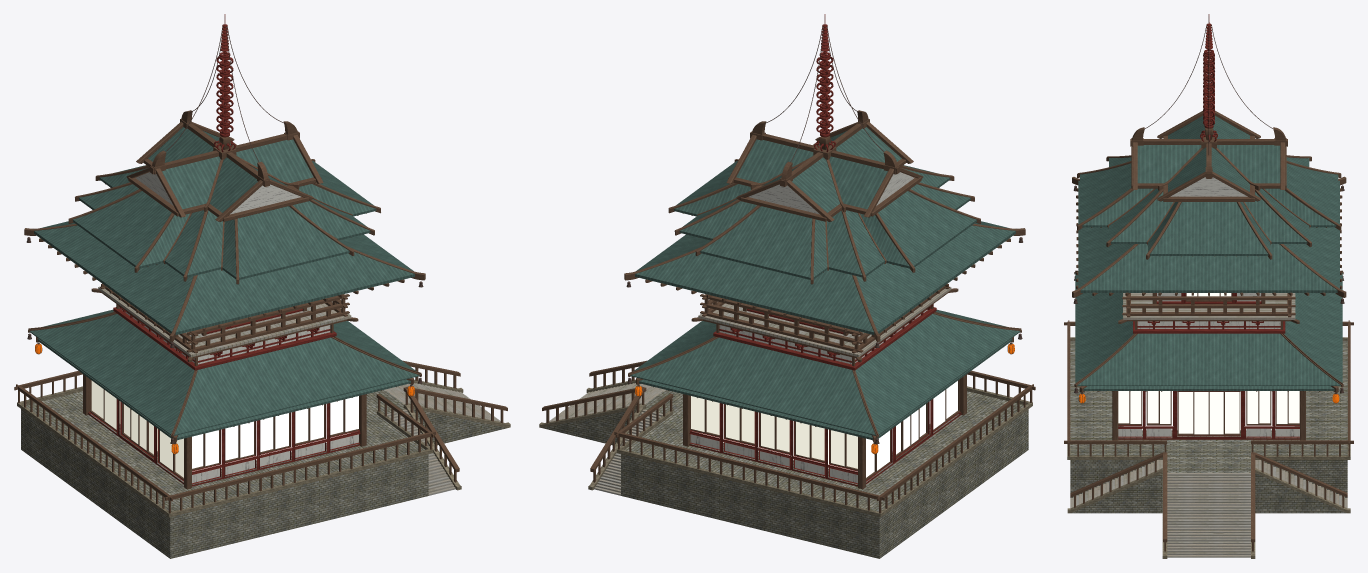
File: jp_castle.glb
3 views of the same model, side by side, from view 1: azimuth 30°, elevation 25°; view 2: azimuth 150°, elevation 25°; view 3: azimuth 270°, elevation 25° (orthographic). The views are drawn at different scales.
Parts seen in each view (by area): view 1: 2F base.010_roof_0, base_base cobblestone_0, 2F base.013_painted wood support_0, 1F_red wood_0, 1F.001_brick shoji_0, 2F base.015_floor plank wood_0, railing_conrete_0, 2F base.006_white painted wod_0, BezierCurve_metal_0; view 2: 2F base.010_roof_0, base_base cobblestone_0, 2F base.013_painted wood support_0, 1F_red wood_0, 1F.001_brick shoji_0, 2F base.015_floor plank wood_0, railing_conrete_0, 2F base.006_white painted wod_0, BezierCurve_metal_0; view 3: 2F base.010_roof_0, 2F base.013_painted wood support_0, base_base cobblestone_0, 2F base.015_floor plank wood_0, 1F.001_brick shoji_0, 1F_red wood_0, 2F base.006_white painted wod_0, railing_conrete_0, BezierCurve_metal_0, lamp.002_emission_0.
Boxes of the visible parts, left/top/right/bottom form: 2F base.010_roof_0: left=29, top=127, right=419, bottom=440; base_base cobblestone_0: left=21, top=389, right=507, bottom=558; 2F base.013_painted wood support_0: left=14, top=110, right=507, bottom=513; 1F_red wood_0: left=88, top=14, right=360, bottom=486; 1F.001_brick shoji_0: left=91, top=380, right=358, bottom=477; 2F base.015_floor plank wood_0: left=98, top=286, right=500, bottom=495; railing_conrete_0: left=17, top=379, right=510, bottom=517; 2F base.006_white painted wod_0: left=119, top=172, right=358, bottom=483; BezierCurve_metal_0: left=26, top=26, right=423, bottom=454; 2F base.010_roof_0: left=630, top=127, right=1020, bottom=440; base_base cobblestone_0: left=542, top=389, right=1028, bottom=558; 2F base.013_painted wood support_0: left=542, top=110, right=1035, bottom=513; 1F_red wood_0: left=689, top=14, right=961, bottom=486; 1F.001_brick shoji_0: left=691, top=381, right=957, bottom=477; 2F base.015_floor plank wood_0: left=549, top=286, right=951, bottom=495; railing_conrete_0: left=539, top=379, right=1032, bottom=517; 2F base.006_white painted wod_0: left=690, top=172, right=927, bottom=483; BezierCurve_metal_0: left=626, top=26, right=1022, bottom=454; 2F base.010_roof_0: left=1075, top=115, right=1342, bottom=390; 2F base.013_painted wood support_0: left=1064, top=106, right=1353, bottom=551; base_base cobblestone_0: left=1070, top=341, right=1347, bottom=533; 2F base.015_floor plank wood_0: left=1070, top=293, right=1347, bottom=557; 1F.001_brick shoji_0: left=1118, top=293, right=1299, bottom=434; 1F_red wood_0: left=1118, top=14, right=1299, bottom=439; 2F base.006_white painted wod_0: left=1118, top=177, right=1299, bottom=436; railing_conrete_0: left=1067, top=337, right=1350, bottom=558; BezierCurve_metal_0: left=1073, top=25, right=1344, bottom=403; lamp.002_emission_0: left=1124, top=391, right=1294, bottom=430.
Bounding box in the file's own units: 3065 × 3392 × 2090.
Materials: 11 (8 with a texture image).
